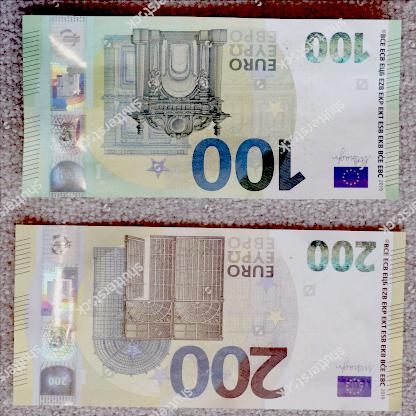euro_banknote: (14, 229, 406, 410), (23, 17, 402, 200)
